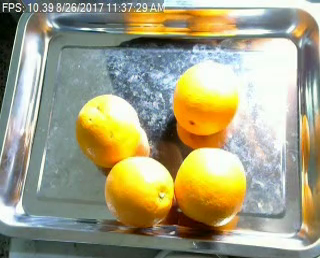Orange: (175, 146, 245, 226), (104, 156, 173, 228), (172, 61, 239, 135), (75, 92, 140, 167)
